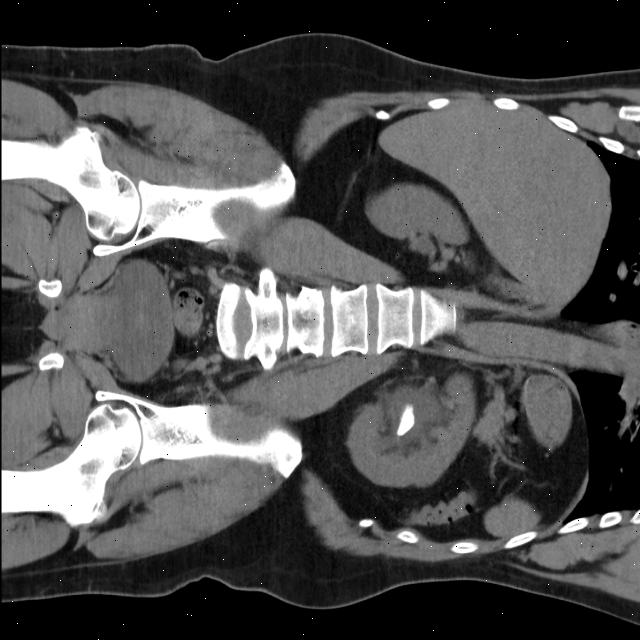kidneystone: (396, 413, 414, 435)
